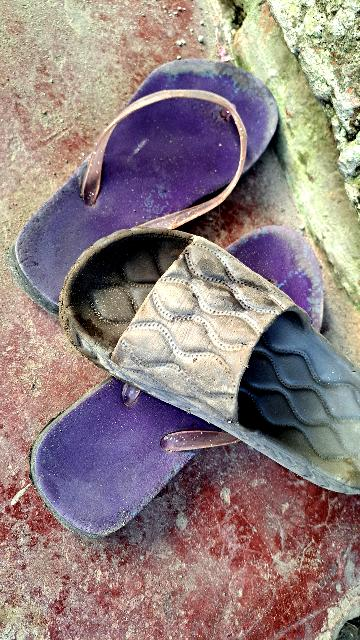sandal: (0, 193, 360, 568), (47, 197, 360, 544), (0, 29, 305, 338)
